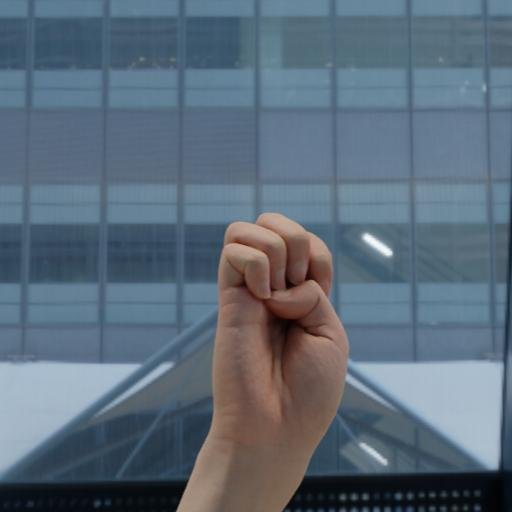E: (202, 194, 364, 450)
